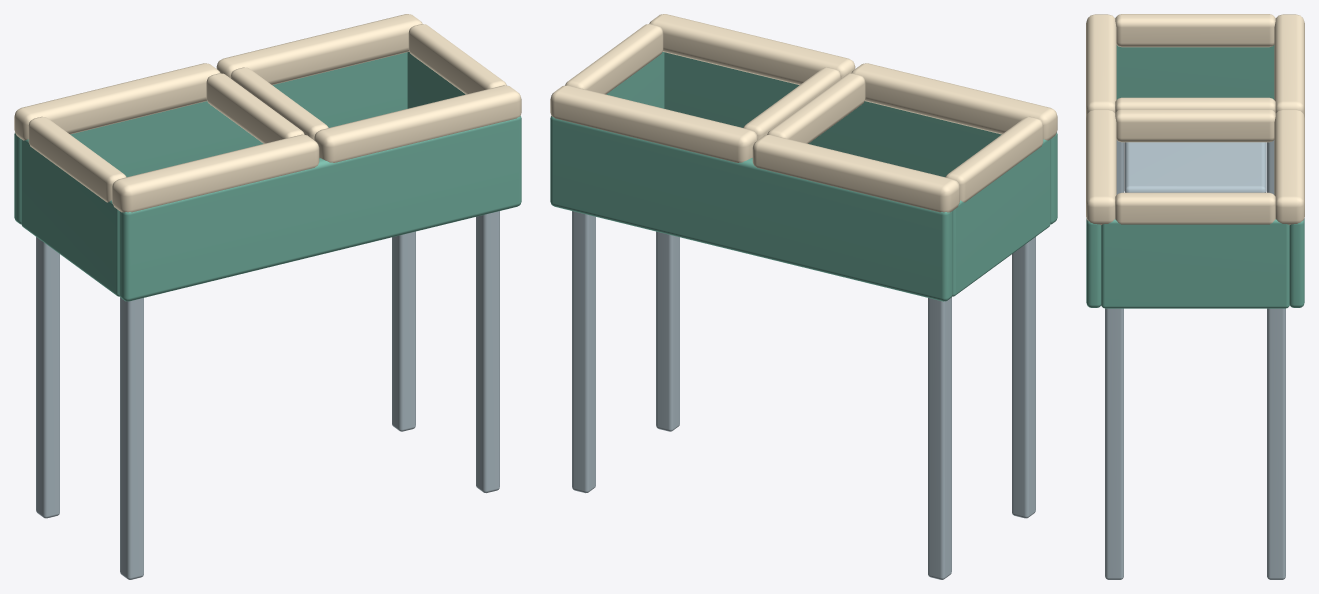
The model's file is 2_well_cooled_module.fbx.
3 renders of one model, left to right at view 1: azimuth 30°, elevation 25°; view 2: azimuth 150°, elevation 25°; view 3: azimuth 270°, elevation 25°, orthographic. The views are drawn at different scales.
Parts seen in each view (by area): view 1: Toon_2_well_cooled_module Cooler wall.002, Toon_2_well_cooled_module Cooler wall.003, Toon_2_well_cooled_module Cooler side.002, Toon_2_well_cooled_module Well rim.004, Toon_2_well_cooled_module Well rim.006, Toon_2_well_cooled_module Well rim.005, Toon_2_well_cooled_module Removable leg.004, Toon_2_well_cooled_module Removable leg.006, Toon_2_well_cooled_module Well rim.007, Toon_2_well_cooled_module Removable leg.005, Toon_2_well_cooled_module Removable leg.007, Toon_2_well_cooled_module Well side.004 (+4 smaller); view 2: Toon_2_well_cooled_module Cooler wall.003, Toon_2_well_cooled_module Cooler wall.002, Toon_2_well_cooled_module Cooler side.002, Toon_2_well_cooled_module Well rim.005, Toon_2_well_cooled_module Well rim.007, Toon_2_well_cooled_module Well rim.004, Toon_2_well_cooled_module Removable leg.005, Toon_2_well_cooled_module Removable leg.007, Toon_2_well_cooled_module Well rim.006, Toon_2_well_cooled_module Removable leg.004, Toon_2_well_cooled_module Removable leg.006, Toon_2_well_cooled_module Well side.004 (+4 smaller); view 3: Toon_2_well_cooled_module Cooler side.003, Toon_2_well_cooled_module Cooler side.002, Toon_2_well_cooled_module Cold well bottom.002, Toon_2_well_cooled_module Well side.004, Toon_2_well_cooled_module Well side.006, Toon_2_well_cooled_module Well side.007, Toon_2_well_cooled_module Removable leg.006, Toon_2_well_cooled_module Removable leg.007, Toon_2_well_cooled_module Well rim.006, Toon_2_well_cooled_module Well rim.007, Toon_2_well_cooled_module Well rim.004, Toon_2_well_cooled_module Well rim.005 (+5 smaller).
Boxes of the visible parts, x1,y1,x2,y2 form: Toon_2_well_cooled_module Cooler wall.002: (119,116,521,301); Toon_2_well_cooled_module Cooler wall.003: (14,52,407,224); Toon_2_well_cooled_module Cooler side.002: (21,139,119,296); Toon_2_well_cooled_module Well rim.004: (112,134,319,212); Toon_2_well_cooled_module Well rim.006: (314,85,521,162); Toon_2_well_cooled_module Well rim.005: (14,63,220,140); Toon_2_well_cooled_module Removable leg.004: (120,297,143,579); Toon_2_well_cooled_module Removable leg.006: (476,211,499,493); Toon_2_well_cooled_module Well rim.007: (216,14,422,85); Toon_2_well_cooled_module Removable leg.005: (36,237,59,518); Toon_2_well_cooled_module Removable leg.007: (392,231,415,431); Toon_2_well_cooled_module Well side.004: (28,116,126,202); Toon_2_well_cooled_module Cooler wall.003: (550,116,952,301); Toon_2_well_cooled_module Cooler wall.002: (664,52,1057,224); Toon_2_well_cooled_module Cooler side.002: (952,139,1050,296); Toon_2_well_cooled_module Well rim.005: (752,134,959,212); Toon_2_well_cooled_module Well rim.007: (550,85,757,162); Toon_2_well_cooled_module Well rim.004: (851,63,1057,140); Toon_2_well_cooled_module Removable leg.005: (928,297,951,579); Toon_2_well_cooled_module Removable leg.007: (572,211,595,493); Toon_2_well_cooled_module Well rim.006: (649,14,855,85); Toon_2_well_cooled_module Removable leg.004: (1012,237,1035,518); Toon_2_well_cooled_module Removable leg.006: (656,231,679,431); Toon_2_well_cooled_module Well side.004: (945,116,1043,202); Toon_2_well_cooled_module Cooler side.003: (1101,219,1289,308); Toon_2_well_cooled_module Cooler side.002: (1116,45,1274,99); Toon_2_well_cooled_module Cold well bottom.002: (1124,142,1266,192); Toon_2_well_cooled_module Well side.004: (1115,14,1275,47); Toon_2_well_cooled_module Well side.006: (1115,109,1275,142); Toon_2_well_cooled_module Well side.007: (1115,192,1275,224); Toon_2_well_cooled_module Removable leg.006: (1105,308,1123,579); Toon_2_well_cooled_module Removable leg.007: (1267,308,1285,579); Toon_2_well_cooled_module Well rim.006: (1086,109,1116,224); Toon_2_well_cooled_module Well rim.007: (1274,109,1304,224); Toon_2_well_cooled_module Well rim.004: (1086,14,1116,117); Toon_2_well_cooled_module Well rim.005: (1274,14,1304,117).
Size of the model in its own units: 99 by 95.1 by 48.6.
